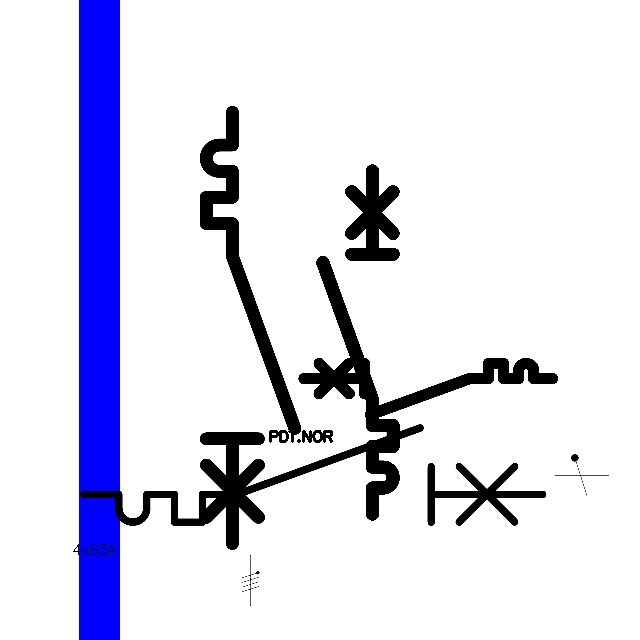interruptor_termomagnetico: (72, 416, 554, 534), (195, 101, 306, 555), (314, 162, 402, 523), (297, 357, 559, 421)
